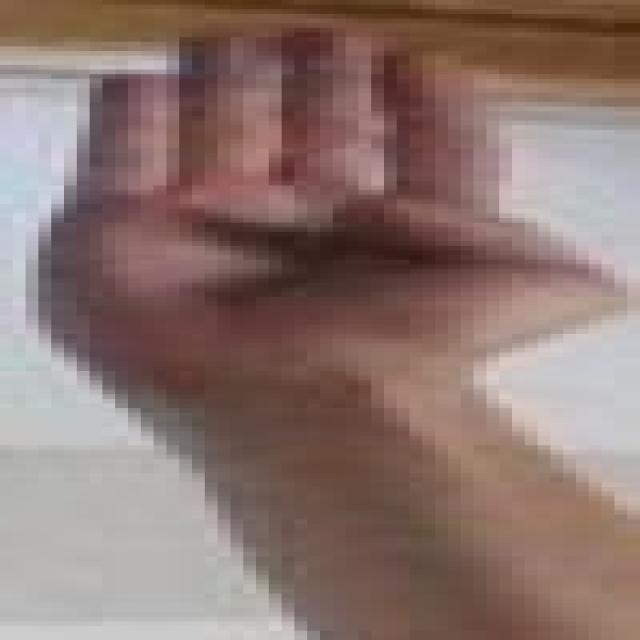B: (10, 3, 640, 385)
